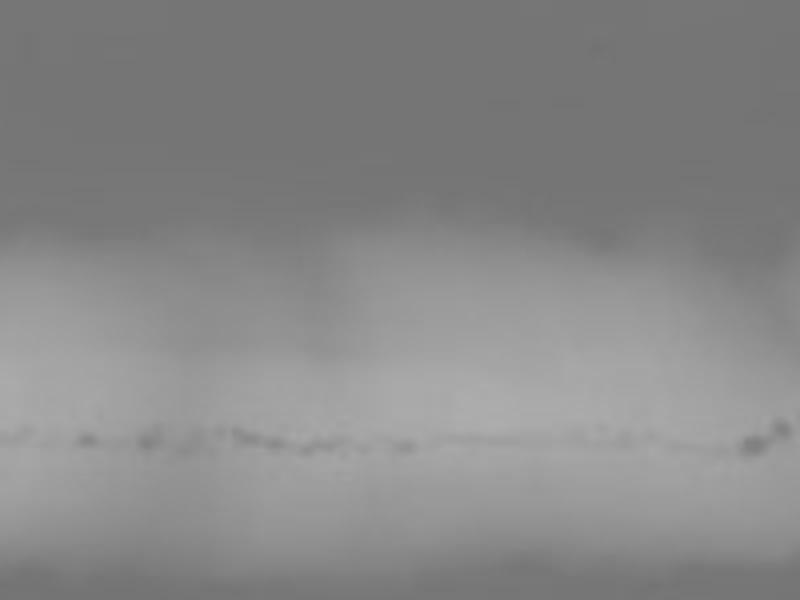defect: (190, 423, 226, 459), (298, 436, 347, 459), (1, 423, 33, 450), (231, 423, 261, 451), (765, 415, 791, 445), (137, 427, 168, 452), (740, 436, 769, 461), (171, 437, 196, 465), (389, 437, 420, 459), (350, 438, 380, 456), (267, 432, 288, 456), (74, 431, 101, 449)
